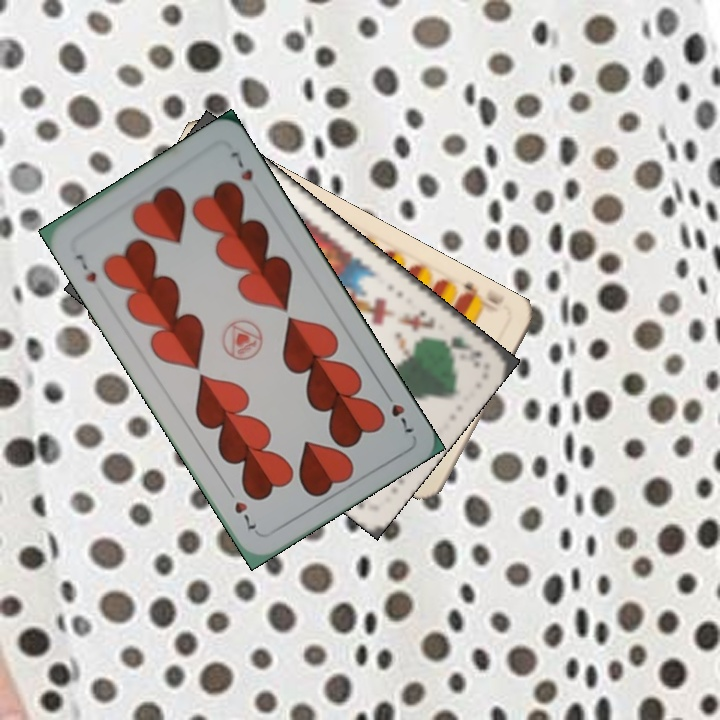E10: (454, 278, 506, 308)
GK: (435, 331, 486, 370)
H7: (378, 385, 417, 436), (70, 249, 100, 285)
